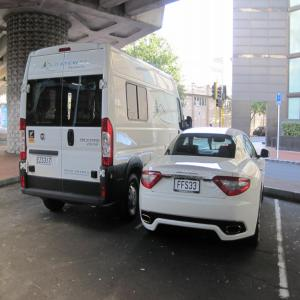Vehicle-registration-plate: (176, 181, 202, 195), (38, 157, 53, 166)
